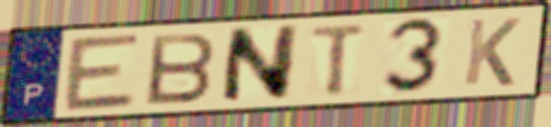3: (376, 15, 452, 98)
B: (144, 30, 219, 107)
E: (60, 30, 144, 114)
K: (460, 16, 524, 88)
N: (217, 22, 302, 107)
T: (308, 21, 370, 99)
